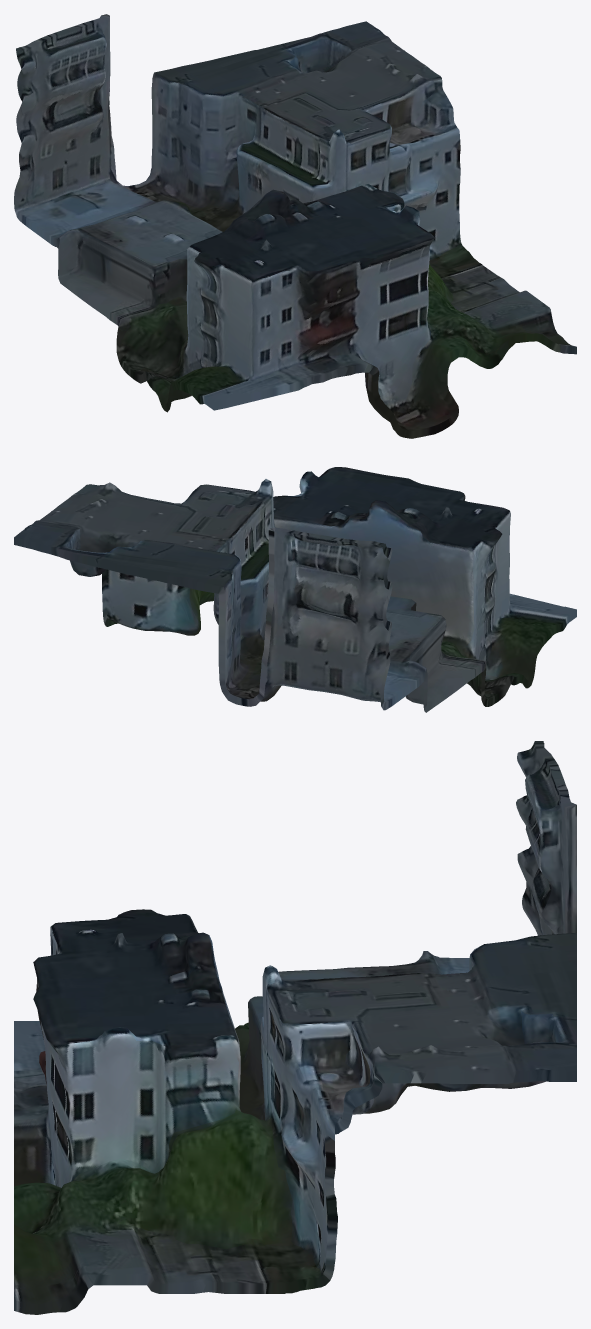
File: z20-167716-405197-h0-yup-uvflip-v3-world.glb
3 views of the same model, one above another, from view 1: azimuth 30°, elevation 25°; view 2: azimuth 150°, elevation 25°; view 3: azimuth 270°, elevation 25° (orthographic). The views are drawn at different scales.
Size of the model in its own units: 30.16 by 23.4 by 30.32.
Materials: 1 (1 with a texture image).
